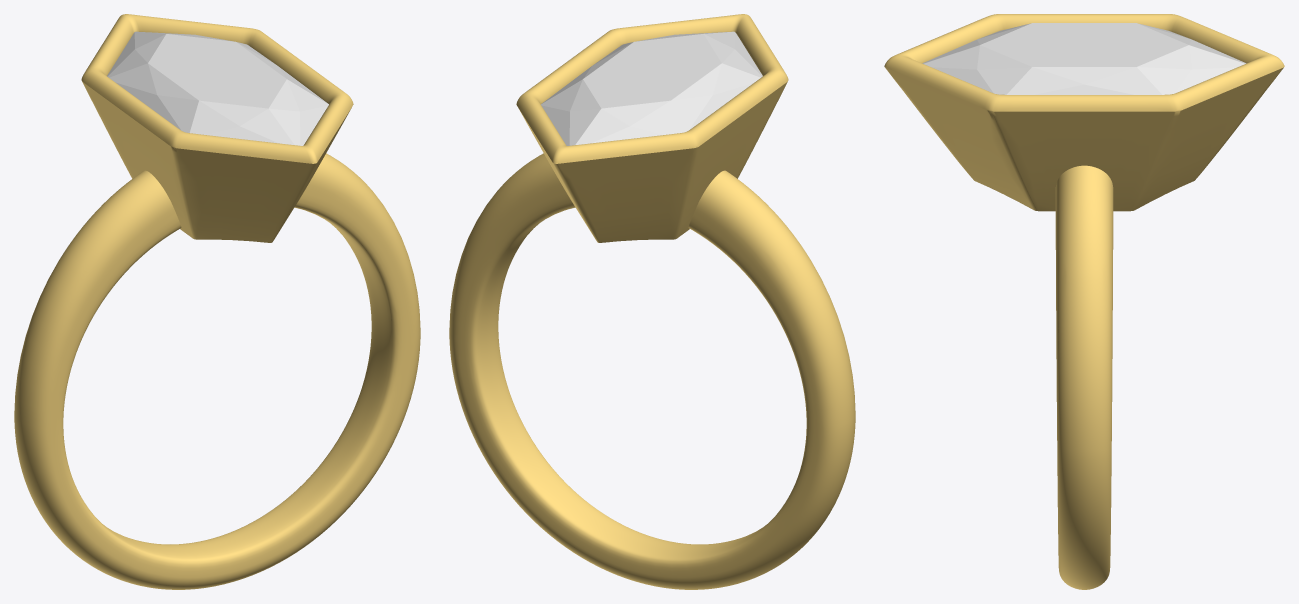
Rendered from KathyV2fullbez_blender.glb.
3 views of the same model, side by side, from view 1: azimuth 30°, elevation 25°; view 2: azimuth 150°, elevation 25°; view 3: azimuth 270°, elevation 25° (orthographic). The views are drawn at different scales.
Parts seen in each view (by area): view 1: V2 Kathy YG for 3d model, Kathy dia for 3d model; view 2: V2 Kathy YG for 3d model, Kathy dia for 3d model; view 3: V2 Kathy YG for 3d model, Kathy dia for 3d model.
Part boxes in pixels (box(x1,y1,x2,y2)): V2 Kathy YG for 3d model: box(14, 14, 420, 589); Kathy dia for 3d model: box(107, 31, 328, 145); V2 Kathy YG for 3d model: box(449, 14, 855, 589); Kathy dia for 3d model: box(541, 31, 762, 145); V2 Kathy YG for 3d model: box(884, 14, 1284, 589); Kathy dia for 3d model: box(922, 23, 1246, 94).
Size of the model in its own units: 20.32 by 24.98 by 17.33.
